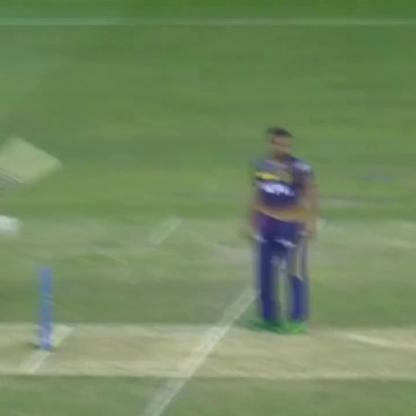pitch: (0, 316, 415, 403)
